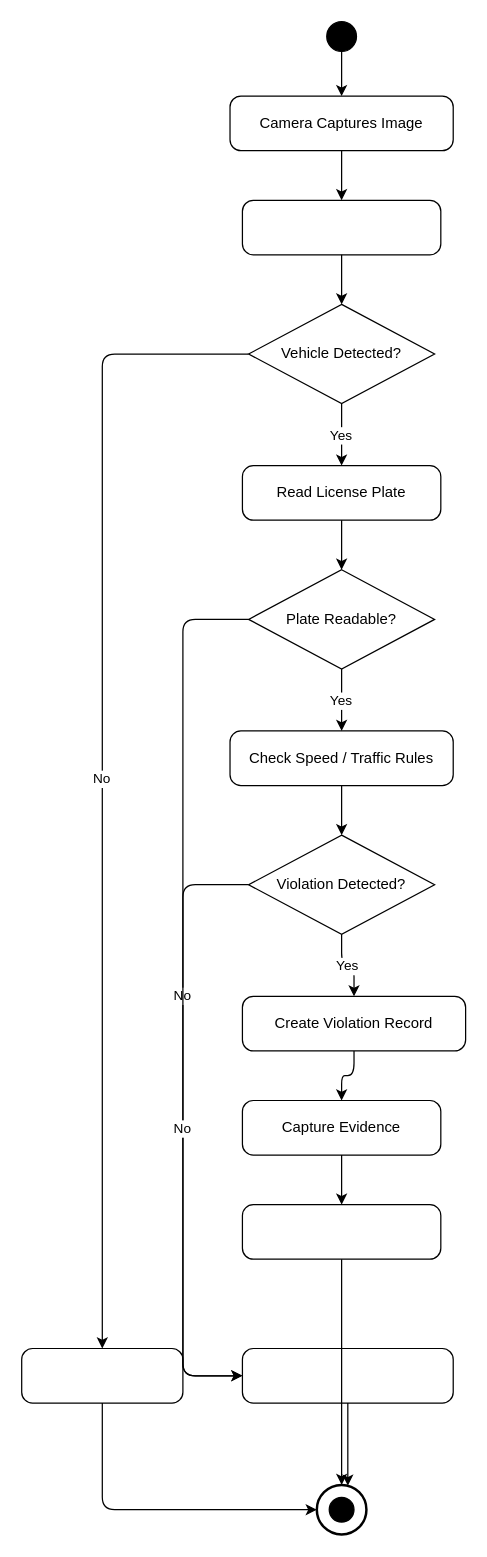
Some shapes in this 487 by 1557 pixel diagram are drawn without their labels. The box of each missing label's shape, as (x1, y1, x2, y2) in pixels:
AI Analyzes Image: (241, 199, 441, 255)
Discard Image: (20, 1347, 183, 1403)
Flag for Manual Review: (241, 1347, 453, 1403)
Send Alert to Officer: (241, 1203, 441, 1259)
